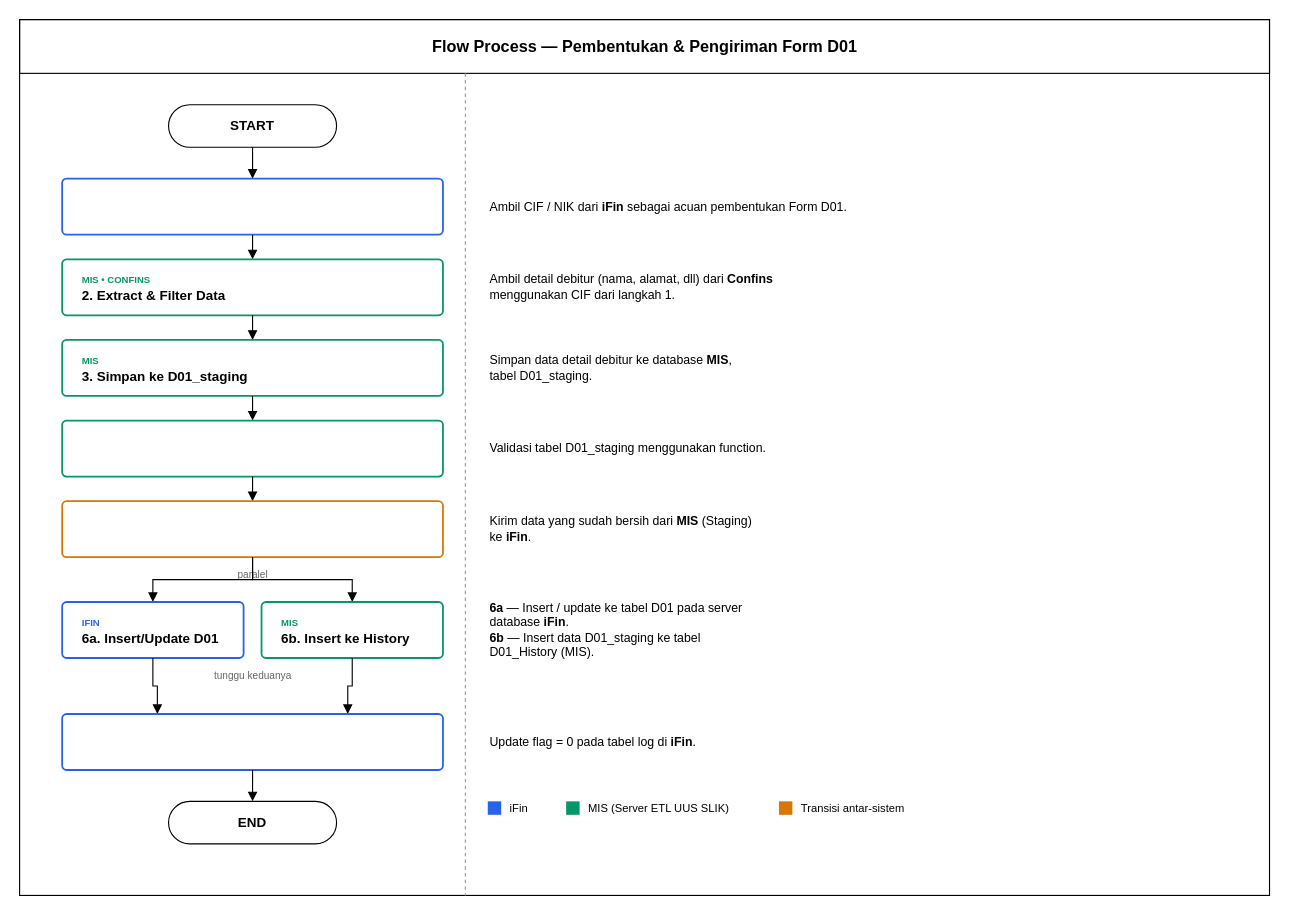
Some shapes in this 1289 by 916 pixel diagram are drawn without their labels. The centre of each missing label's shape, as x and y in pixels:
IFIN 1. Ambil CIF / NIK: pixel 252 206
IFIN 7. Update Status: pixel 252 741
MIS 4. Validasi D01_staging: pixel 252 448
MIS → IFIN 5. Load Data: pixel 252 529
